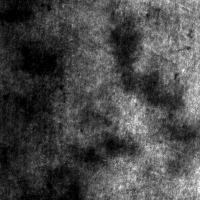patches: (113, 66, 185, 115), (148, 100, 200, 162), (103, 12, 146, 80), (71, 130, 141, 169), (14, 41, 63, 80), (37, 163, 85, 199), (1, 1, 40, 25)
